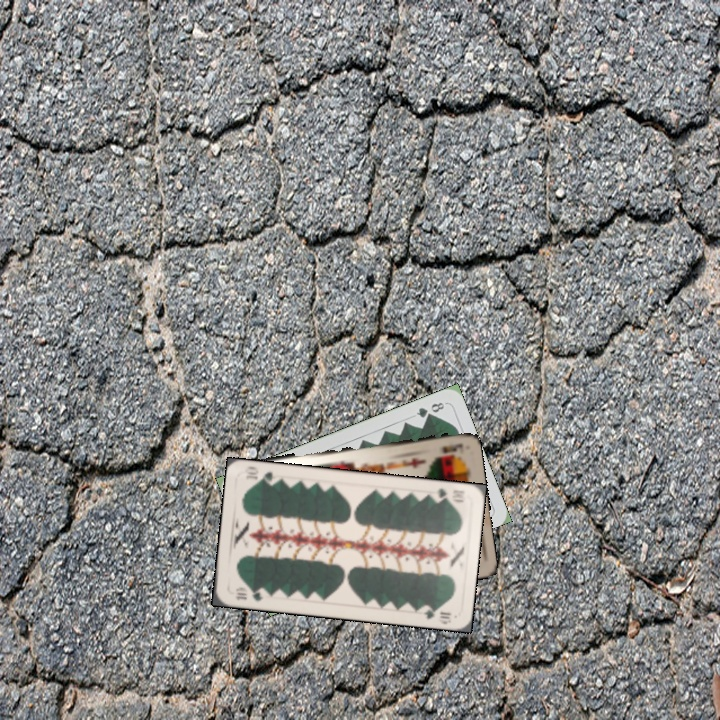G10: (428, 484, 466, 505), (231, 583, 265, 604)
G8: (412, 398, 447, 420)
SK: (437, 439, 465, 456)
